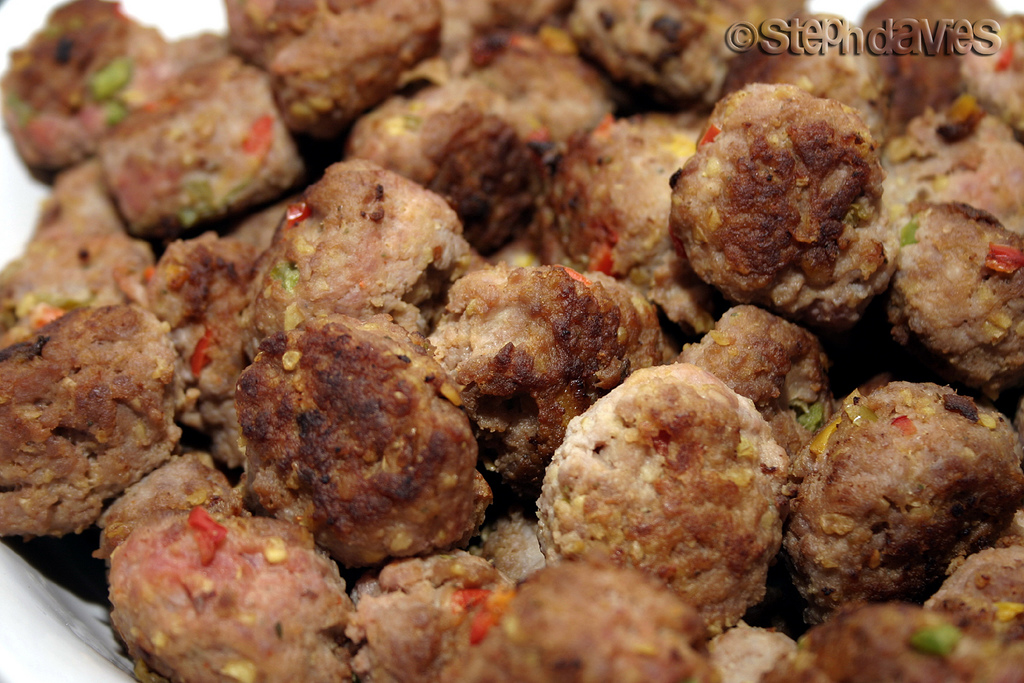meatballs: (134, 61, 901, 683)
